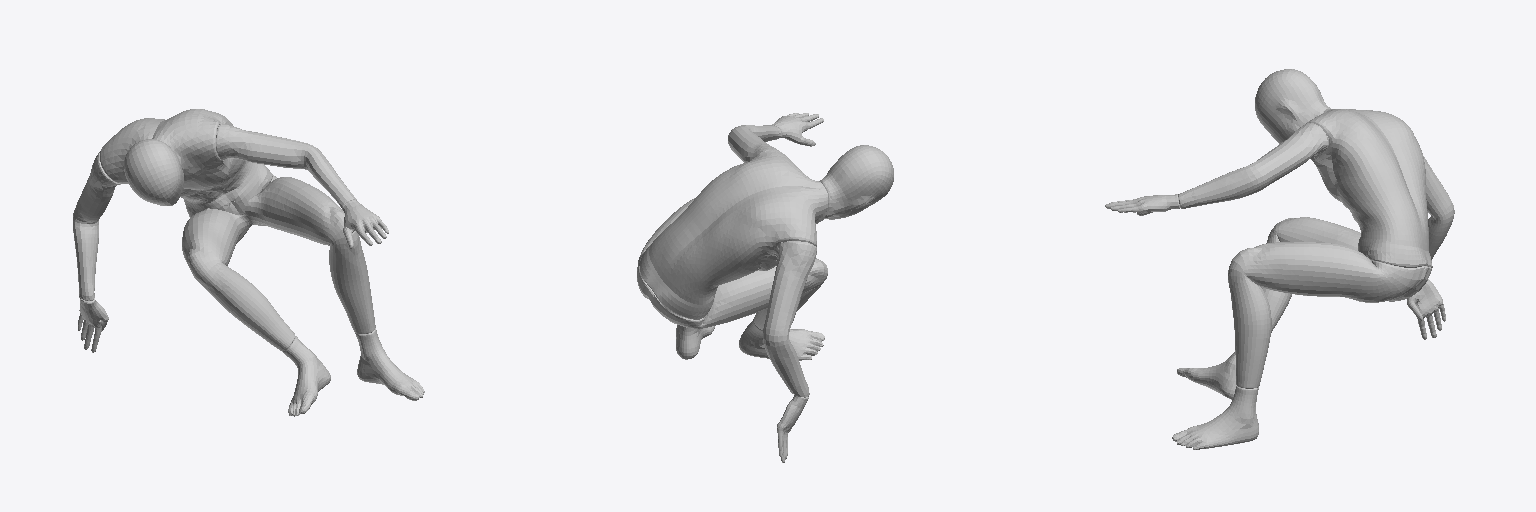
Rendered from standup53.obj.
3 renders of one model, left to right at view 1: azimuth 30°, elevation 25°; view 2: azimuth 150°, elevation 25°; view 3: azimuth 270°, elevation 25°, orthographic.
Parts seen in each view (by area): view 1: Ch36; view 2: Ch36; view 3: Ch36.
Part boxes in pixels (left/top/right/bottom): Ch36: left=73, top=109, right=424, bottom=416; Ch36: left=637, top=113, right=893, bottom=462; Ch36: left=1105, top=69, right=1454, bottom=449.
Size of the model in its own units: 0.8411 by 0.8728 by 1.02.